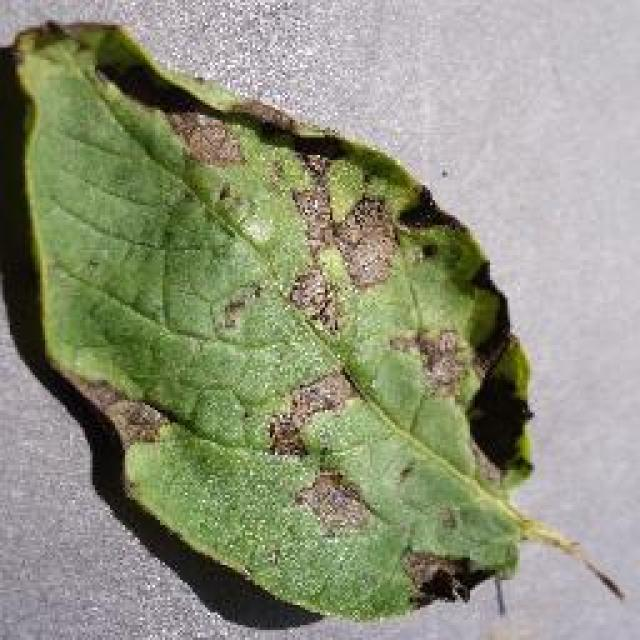early_blight: (0, 14, 622, 627)
